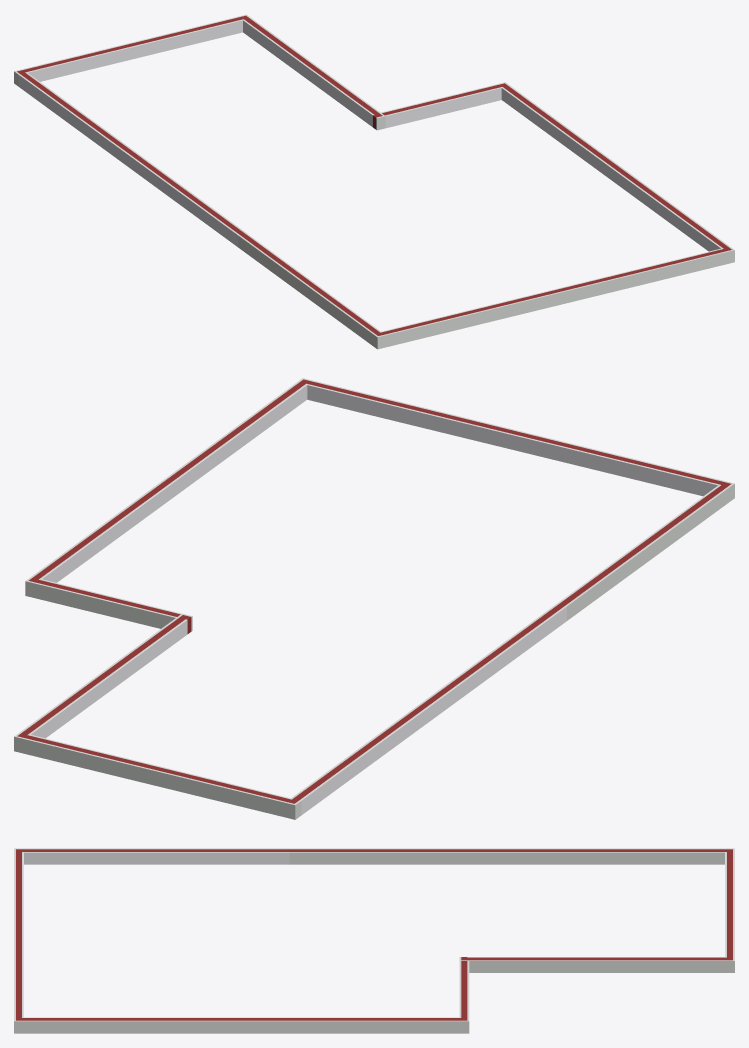
The model's file is PROJETO BIM 12 ANDARES__tico_IfcWallStandardCase.dae.
3 renders of one model, top to bottom at view 1: azimuth 30°, elevation 25°; view 2: azimuth 150°, elevation 25°; view 3: azimuth 270°, elevation 25°, orthographic. The views are drawn at different scales.
Parts seen in each view (by area): view 1: 09FUhpNd17hxATKHNAqtdQ, 09FUhpNd17hxATKHNAqtcN, 09FUhpNd17hxATKHNAqsUS, 09FUhpNd17hxATKHNAqtgL, 09FUhpNd17hxATKHNAqthG, 09FUhpNd17hxATKHNAqsS6, 09FUhpNd17hxATKHNAqtfL; view 2: 09FUhpNd17hxATKHNAqtdQ, 09FUhpNd17hxATKHNAqsUS, 09FUhpNd17hxATKHNAqtcN, 09FUhpNd17hxATKHNAqtgL, 09FUhpNd17hxATKHNAqsS6, 09FUhpNd17hxATKHNAqthG, 09FUhpNd17hxATKHNAqtfL; view 3: 09FUhpNd17hxATKHNAqtcN, 09FUhpNd17hxATKHNAqsUS, 09FUhpNd17hxATKHNAqsS6, 09FUhpNd17hxATKHNAqthG, 09FUhpNd17hxATKHNAqtdQ, 09FUhpNd17hxATKHNAqtgL, 09FUhpNd17hxATKHNAqtfL.
Part boxes in pixels (<box>): 09FUhpNd17hxATKHNAqtdQ: <box>372,248,726,349</box>; 09FUhpNd17hxATKHNAqtcN: <box>501,86,734,264</box>; 09FUhpNd17hxATKHNAqsUS: <box>19,73,246,247</box>; 09FUhpNd17hxATKHNAqtgL: <box>14,14,251,86</box>; 09FUhpNd17hxATKHNAqthG: <box>243,18,385,130</box>; 09FUhpNd17hxATKHNAqsS6: <box>238,233,380,345</box>; 09FUhpNd17hxATKHNAqtfL: <box>381,82,509,128</box>; 09FUhpNd17hxATKHNAqtdQ: <box>307,380,734,502</box>; 09FUhpNd17hxATKHNAqsUS: <box>291,604,566,815</box>; 09FUhpNd17hxATKHNAqtcN: <box>31,378,312,582</box>; 09FUhpNd17hxATKHNAqtgL: <box>14,732,301,819</box>; 09FUhpNd17hxATKHNAqsS6: <box>557,485,728,620</box>; 09FUhpNd17hxATKHNAqthG: <box>20,613,192,738</box>; 09FUhpNd17hxATKHNAqtfL: <box>25,576,181,628</box>; 09FUhpNd17hxATKHNAqtcN: <box>14,1017,459,1033</box>; 09FUhpNd17hxATKHNAqsUS: <box>289,848,724,864</box>; 09FUhpNd17hxATKHNAqsS6: <box>24,848,289,864</box>; 09FUhpNd17hxATKHNAqthG: <box>459,957,724,972</box>; 09FUhpNd17hxATKHNAqtdQ: <box>14,848,23,1017</box>; 09FUhpNd17hxATKHNAqtgL: <box>725,848,734,972</box>; 09FUhpNd17hxATKHNAqtfL: <box>459,961,469,1033</box>.
Size of the model in its own units: 6.16 by 10.85 by 0.2.
